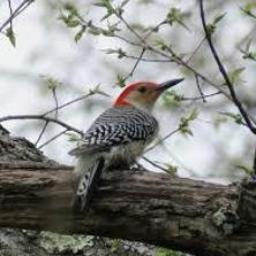Woodpecker: (69, 77, 186, 211)
